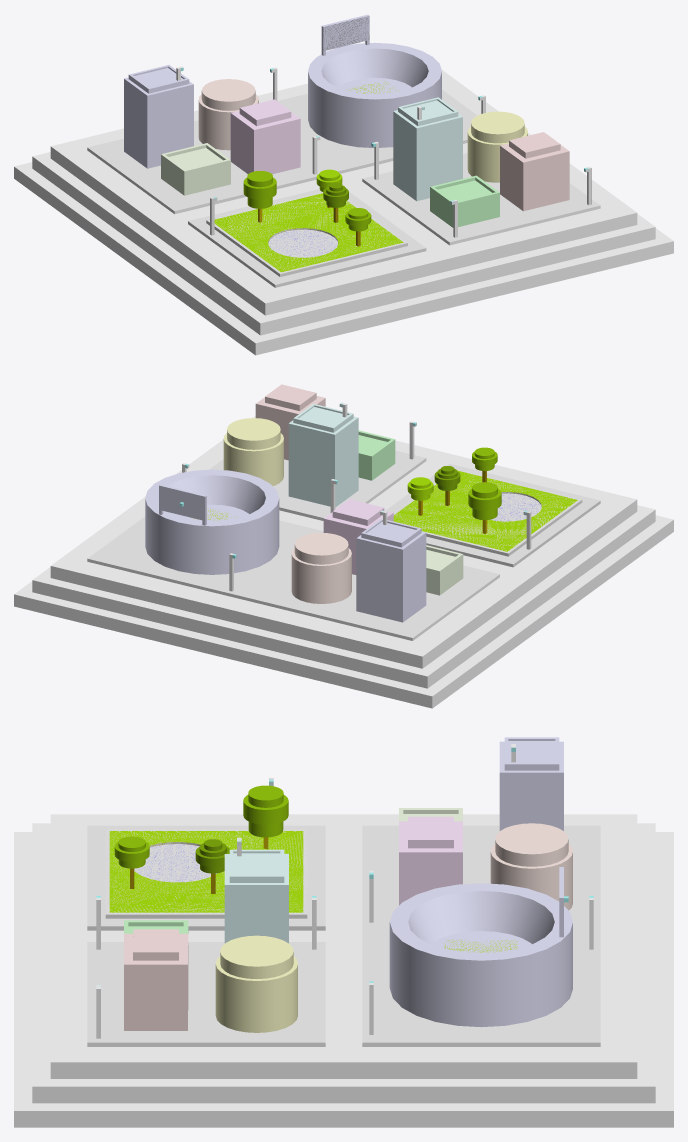
Rendered from terragraph.glb.
3 renders of one model, top to bottom at view 1: azimuth 30°, elevation 25°; view 2: azimuth 150°, elevation 25°; view 3: azimuth 270°, elevation 25°, orthographic. The views are drawn at different scales.
Visible parts, largest first — view 1: group_6.002, group_6, group_6.001, group_7, group_2, group_29.004, group_8, group_19, group_16, group_20, group_30, group_9 (+21 smaller); view 2: group_6.002, group_6, group_6.001, group_7, group_2, group_29.004, group_8, group_19, group_30, group_10, group_2.001, group_16 (+19 smaller); view 3: group_6.002, group_6, group_6.001, group_7, group_2, group_16, group_29.004, group_2.001, group_30, group_20, group_21, group_8 (+19 smaller).
Boxes of the visible parts, left/top/right/bottom form: group_6.002: left=50, top=70, right=637, bottom=315; group_6: left=14, top=162, right=673, bottom=355; group_6.001: left=32, top=152, right=655, bottom=335; group_7: left=87, top=89, right=477, bottom=211; group_2: left=308, top=42, right=441, bottom=147; group_29.004: left=214, top=193, right=403, bottom=272; group_8: left=124, top=77, right=193, bottom=168; group_19: left=393, top=110, right=462, bottom=201; group_16: left=362, top=153, right=600, bottom=242; group_20: left=500, top=143, right=569, bottom=211; group_30: left=188, top=189, right=426, bottom=287; group_9: left=230, top=111, right=300, bottom=174; group_6.002: left=50, top=416, right=637, bottom=668; group_6: left=14, top=515, right=673, bottom=708; group_6.001: left=32, top=505, right=655, bottom=688; group_7: left=88, top=516, right=499, bottom=637; group_2: left=145, top=469, right=279, bottom=574; group_29.004: left=393, top=470, right=577, bottom=551; group_8: left=356, top=531, right=426, bottom=622; group_19: left=288, top=416, right=358, bottom=507; group_30: left=386, top=463, right=600, bottom=567; group_10: left=291, top=548, right=351, bottom=603; group_2.001: left=158, top=475, right=265, bottom=517; group_16: left=209, top=450, right=425, bottom=517; group_6.002: left=50, top=814, right=637, bottom=1078; group_6: left=14, top=832, right=673, bottom=1127; group_6.001: left=32, top=823, right=655, bottom=1103; group_7: left=362, top=825, right=600, bottom=1042; group_2: left=389, top=883, right=572, bottom=1027; group_16: left=87, top=942, right=325, bottom=1042; group_29.004: left=109, top=831, right=303, bottom=912; group_2.001: left=408, top=891, right=554, bottom=948; group_30: left=87, top=825, right=325, bottom=930; group_20: left=124, top=933, right=188, bottom=1030; group_21: left=215, top=956, right=297, bottom=1032; group_8: left=499, top=741, right=563, bottom=830.
Size of the model in its own units: 0.6126 by 0.1787 by 0.6126.
